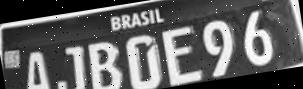placa_antiga: (1, 0, 303, 89)
